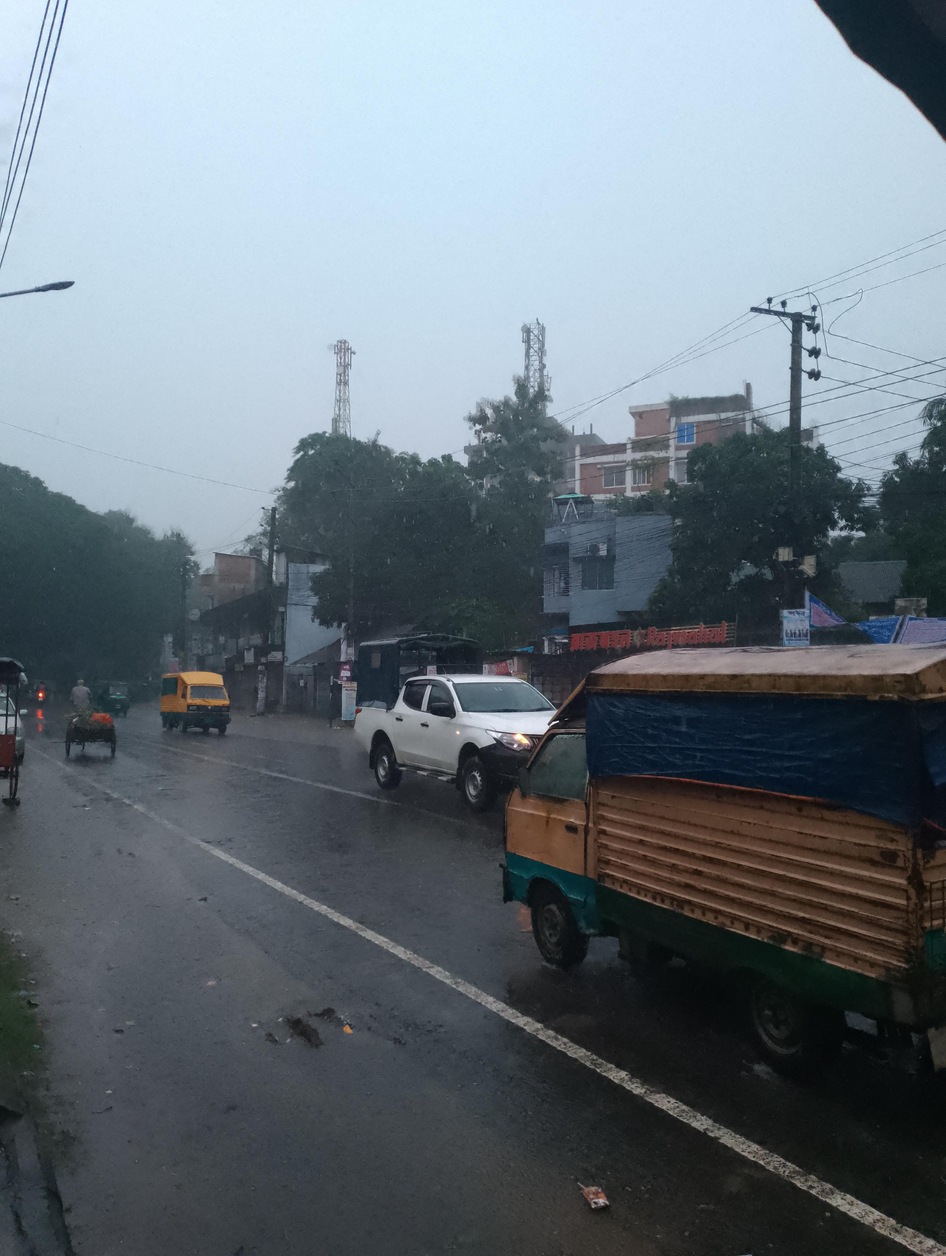Car: (510, 624, 946, 1067), (342, 642, 573, 805), (152, 665, 244, 739)
